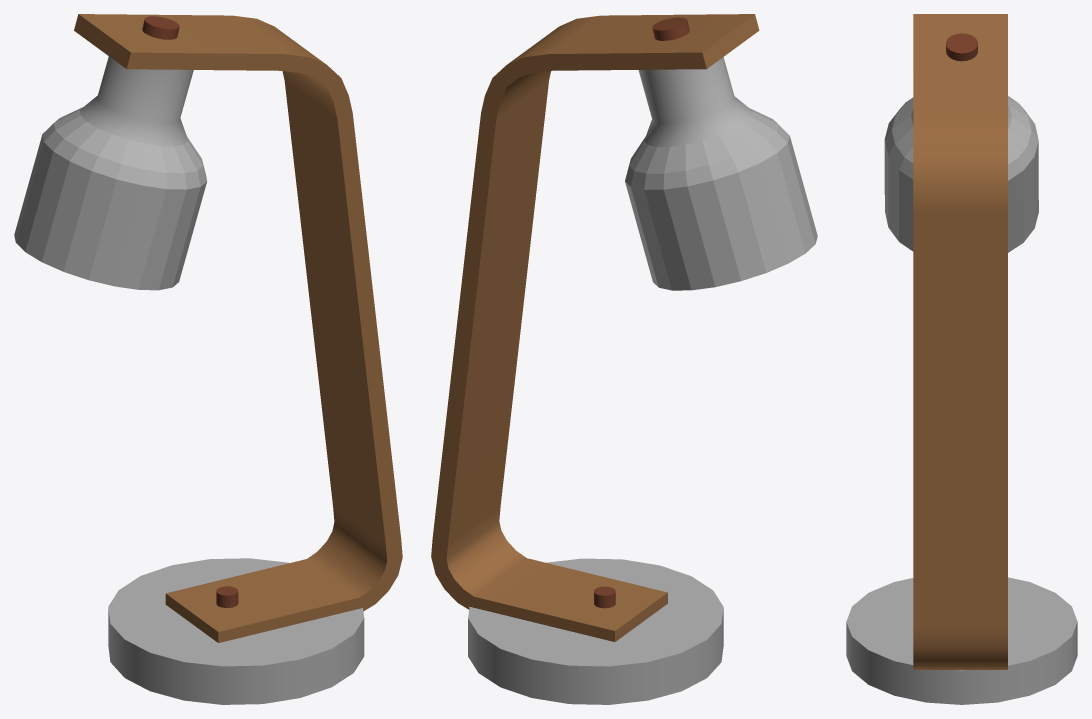
File: Basic_Low_Poly_Lamp (Faces 498)_fbx.fbx
3 views of the same model, side by side, from view 1: azimuth 30°, elevation 25°; view 2: azimuth 150°, elevation 25°; view 3: azimuth 270°, elevation 25° (orthographic). The views are drawn at different scales.
Parts seen in each view (by area): view 1: Basic_Lamp__Faces_498_; view 2: Basic_Lamp__Faces_498_; view 3: Basic_Lamp__Faces_498_.
Boxes of the visible parts, x1,y1,x2,y2 form: Basic_Lamp__Faces_498_: (14, 14, 402, 704); Basic_Lamp__Faces_498_: (431, 14, 817, 704); Basic_Lamp__Faces_498_: (846, 14, 1077, 704).
Size of the model in its own units: 22.52 by 40.01 by 14.35.
